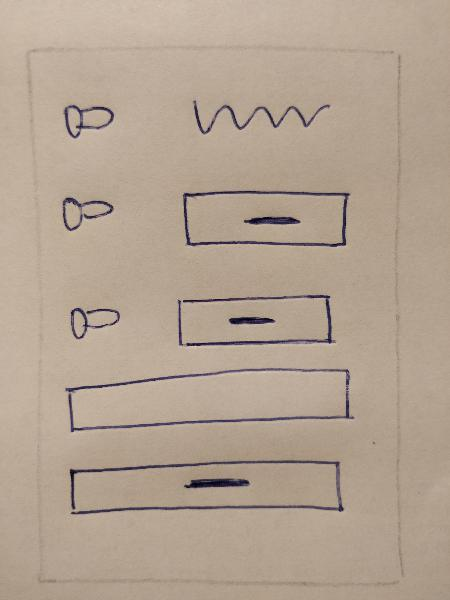button: (63, 452, 357, 519), (173, 185, 357, 257), (172, 287, 342, 355)
switch: (57, 92, 119, 149), (57, 184, 119, 241), (63, 293, 127, 346)
text: (179, 86, 336, 146)
text_input: (60, 364, 361, 438)
